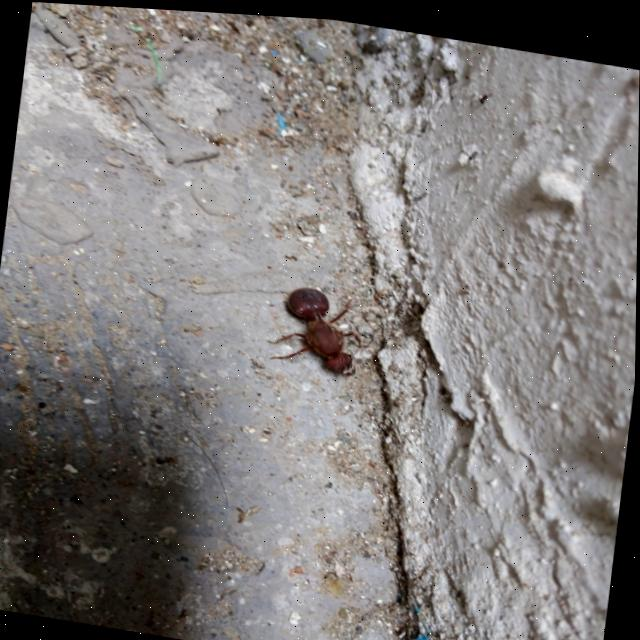Alive-Female-Dealate: (263, 277, 369, 375)
